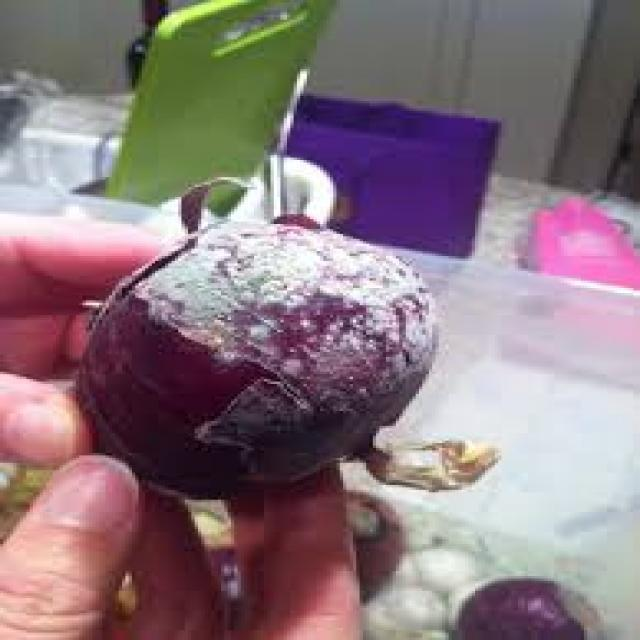Onion: (73, 177, 500, 502), (452, 575, 606, 640), (342, 489, 403, 597)
